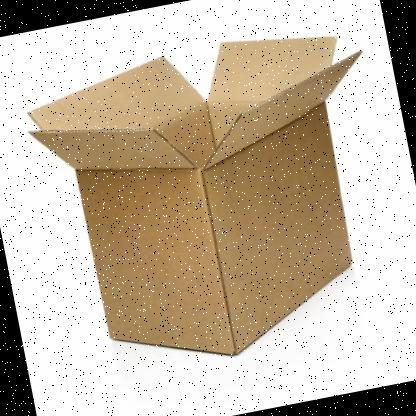box: (27, 30, 362, 355)
opened: (27, 35, 361, 168)
